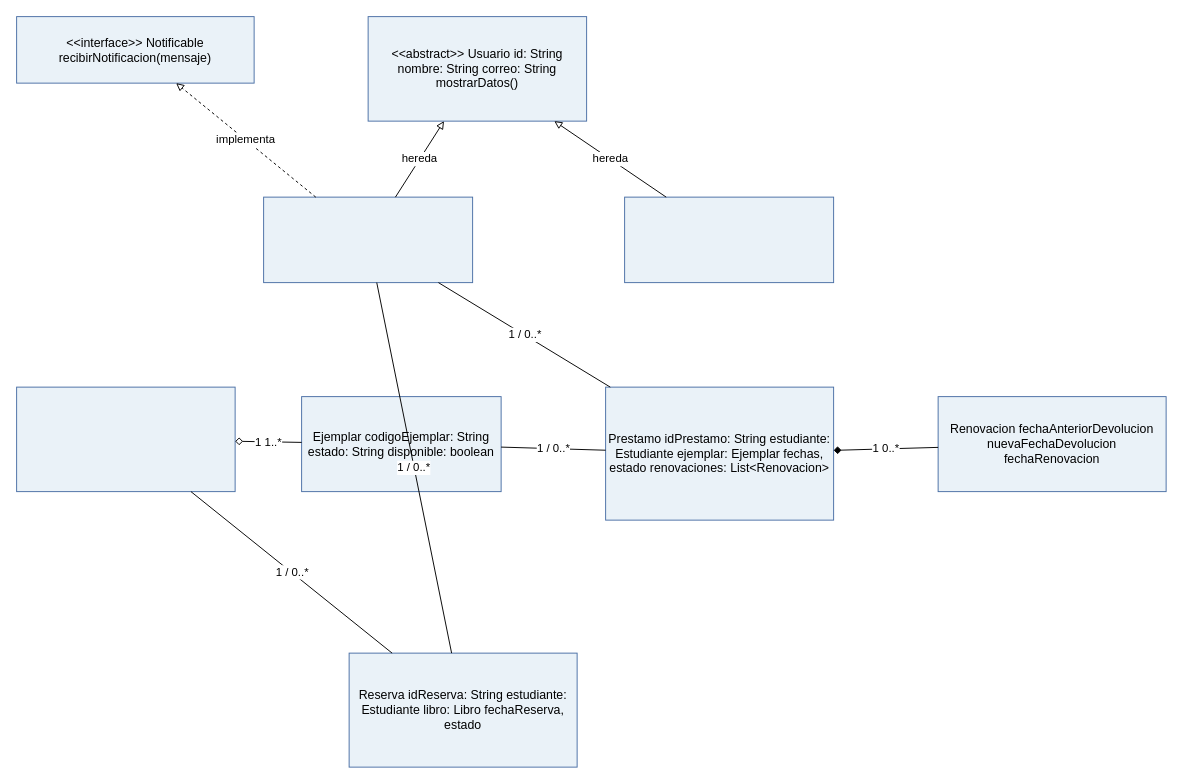
Image size: 1183x784. Some labels were removed from this diagram. The shapes that lost their labels are listed below. From the top down, each one's centre as x and y in pixels, then its label:
point (368, 239): Estudiante codigoEstudiante: String programa: String
point (729, 239): Bibliotecario codigoEmpleado: String cargo: String
point (125, 439): Libro isbn: String titulo: String autor: String ejemplares: List<Ejemplar>
